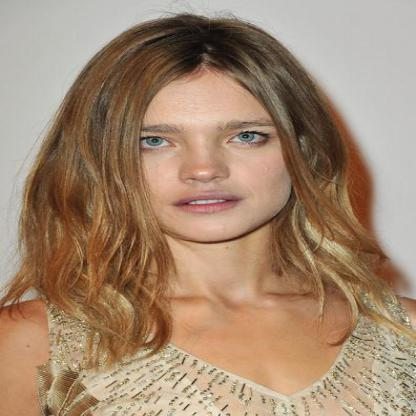long-hair: (5, 240, 395, 308)
